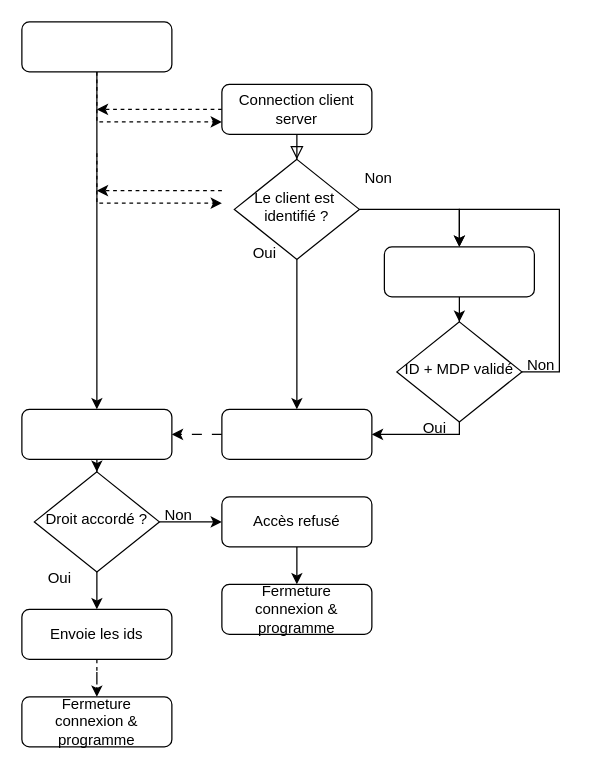
The diagram is 594 pixels wide and 770 high, and some of its shapes have lost their labels. The centre of each missing label's shape, as x and y in pixels:
"Demande quel mdp il souhaite" belongs at [296,433].
"ID + MDP" belongs at [458,271].
"Server en attente" belongs at [96,46].
"Vérification des droits" belongs at [96,433].
